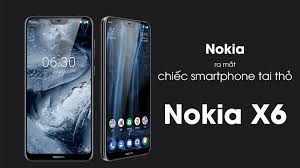nokia: (20, 15, 96, 166), (97, 12, 155, 163)
